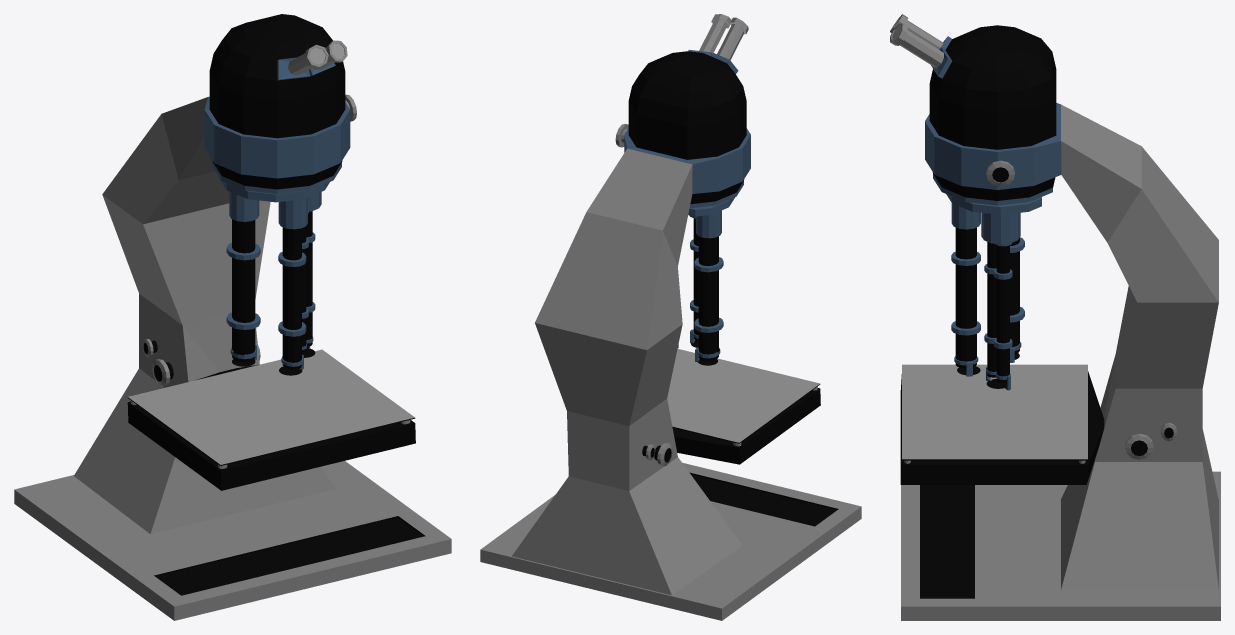
File: Micro.fbx
The picture shows the model from 3 angles, left to right: view 1: azimuth 30°, elevation 25°; view 2: azimuth 150°, elevation 25°; view 3: azimuth 270°, elevation 25°; orthographic projection. The views are drawn at different scales.
Visible parts, largest first — view 1: Plane.013; view 2: Plane.013; view 3: Plane.013.
Boxes of the visible parts, x1,y1,x2,y2 form: Plane.013: (14, 14, 451, 620); Plane.013: (480, 14, 861, 620); Plane.013: (890, 14, 1220, 620).
Size of the model in its own units: 200 by 373 by 207.
